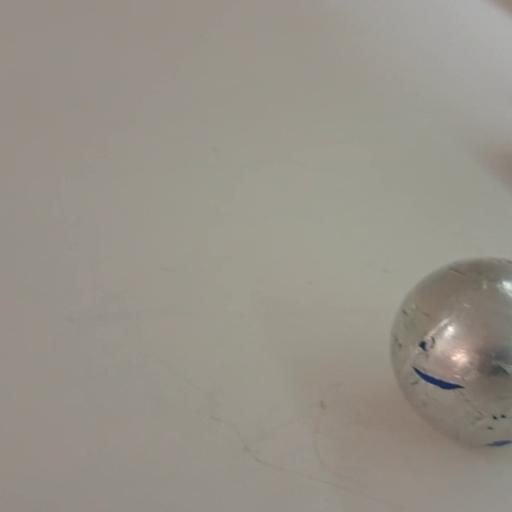alive: (384, 257, 512, 452)
